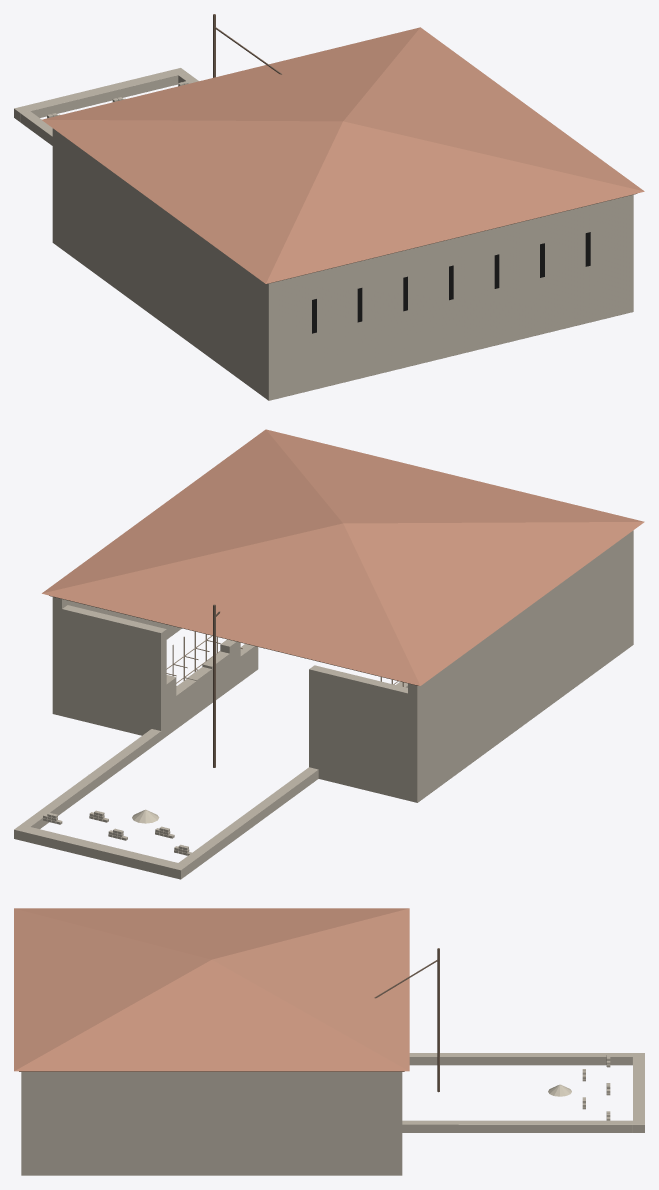
Rendered from santa_maria_novella.glb.
3 views of the same model, one above another, from view 1: azimuth 30°, elevation 25°; view 2: azimuth 150°, elevation 25°; view 3: azimuth 270°, elevation 25° (orthographic). The views are drawn at different scales.
Parts seen in each view (by area): view 1: santa_maria_novella; view 2: santa_maria_novella; view 3: santa_maria_novella.
Boxes of the visible parts, x1=… form: santa_maria_novella: x1=14, y1=14, x2=644, y2=400; santa_maria_novella: x1=14, y1=429, x2=644, y2=879; santa_maria_novella: x1=14, y1=908, x2=644, y2=1175.
Size of the model in its own units: 63.6 by 27 by 104.
